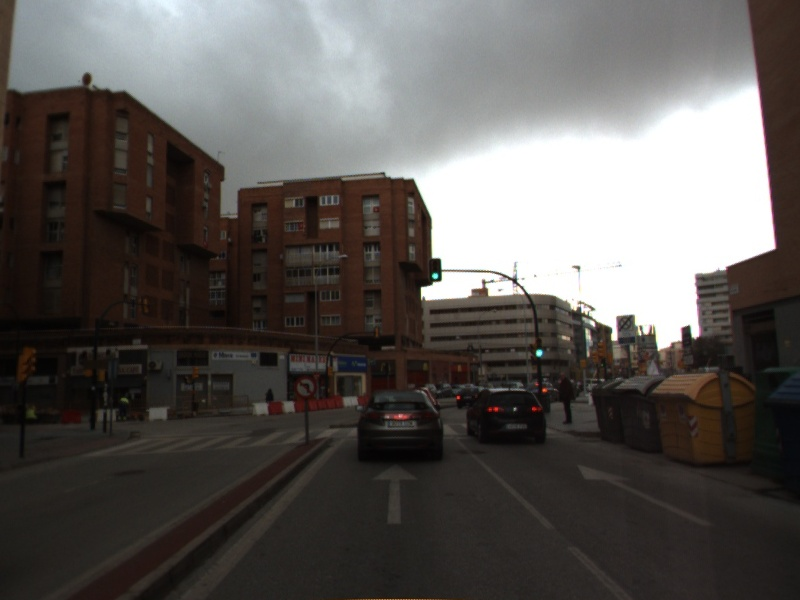STRAIGHT: (575, 463, 715, 529), (371, 463, 420, 526)
